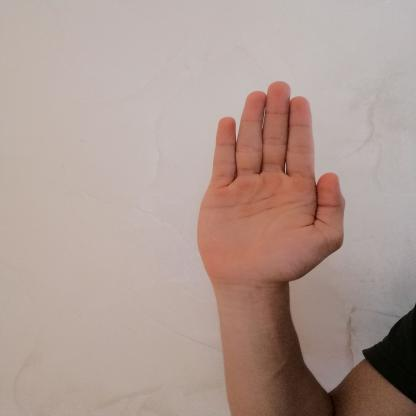SEEN: (186, 76, 357, 295)
